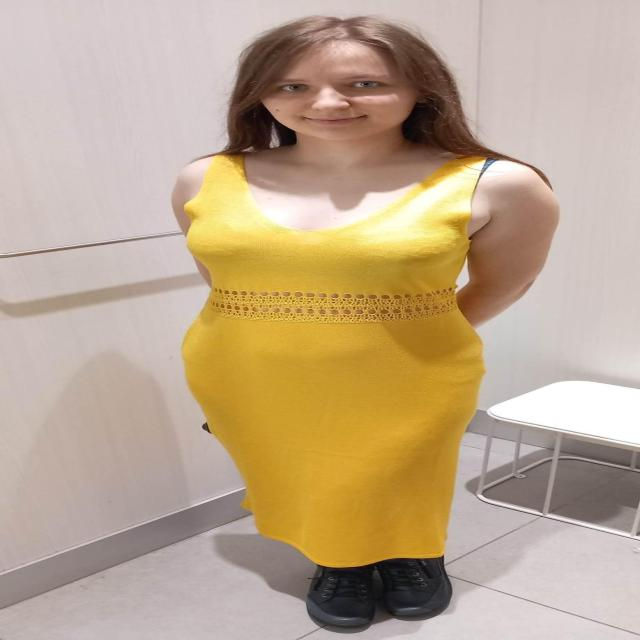dress: (180, 151, 487, 567)
